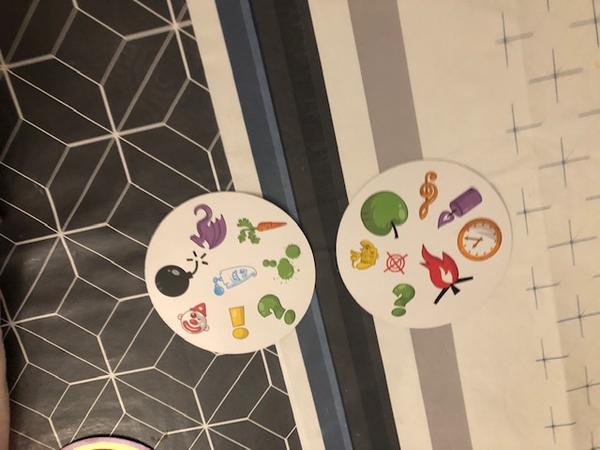bombe: (153, 253, 207, 297)
bougie: (435, 186, 484, 228)
carotte: (228, 213, 283, 245)
chien: (348, 239, 384, 273)
cible: (377, 245, 413, 279)
clown: (176, 300, 212, 336)
dragon: (185, 201, 230, 253)
fantome: (208, 259, 258, 298)
feu: (415, 240, 476, 308)
horloge: (453, 216, 508, 264)
note: (416, 164, 442, 220)
point_exclamation: (221, 305, 254, 341)
point_interrogation: (253, 289, 299, 327), (386, 280, 417, 320)
pomme: (358, 189, 411, 240)
tache: (260, 240, 303, 281)
